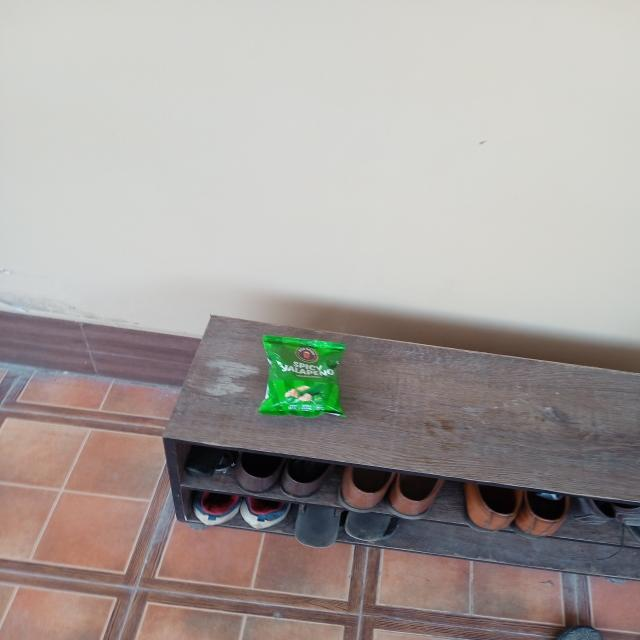Plastic: (250, 328, 356, 425)
